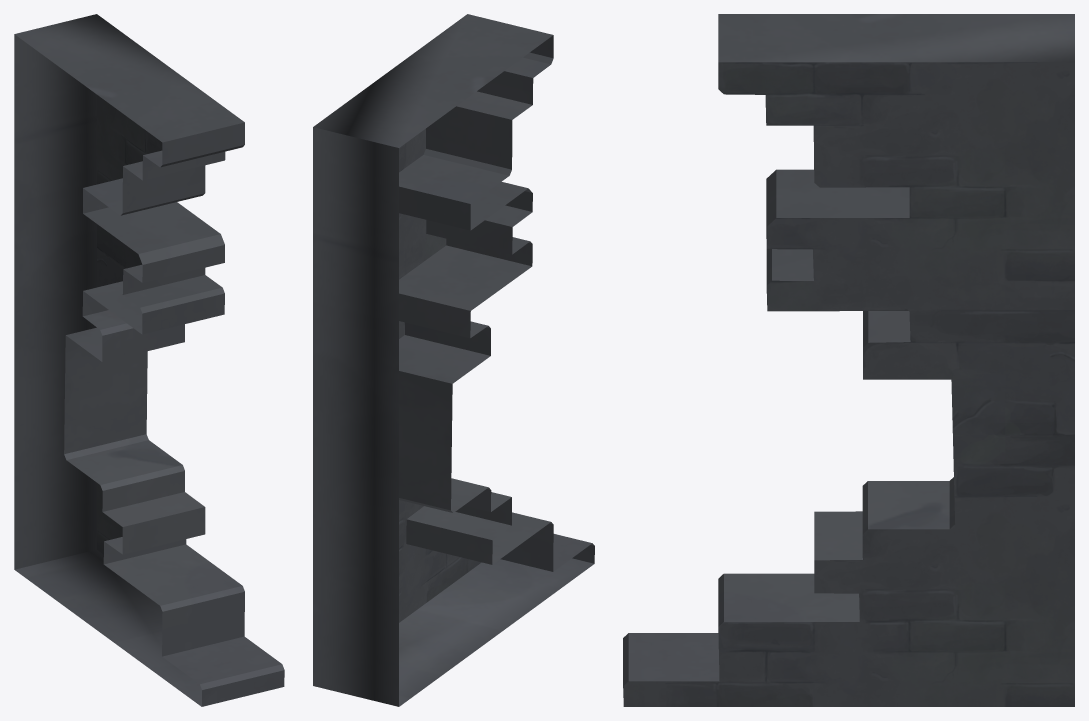
File: SM_Rubble_Wall_01.fbx
3 views of the same model, side by side, from view 1: azimuth 30°, elevation 25°; view 2: azimuth 150°, elevation 25°; view 3: azimuth 270°, elevation 25° (orthographic). The views are drawn at different scales.
Visible parts, largest first — view 1: SM_Rubble_Wall_01; view 2: SM_Rubble_Wall_01; view 3: SM_Rubble_Wall_01.
Part boxes in pixels (left/top/right/bottom): SM_Rubble_Wall_01: left=14, top=14, right=284, bottom=706; SM_Rubble_Wall_01: left=313, top=14, right=594, bottom=706; SM_Rubble_Wall_01: left=623, top=14, right=1074, bottom=706.
Size of the model in its own units: 95.83 by 594 by 378.
